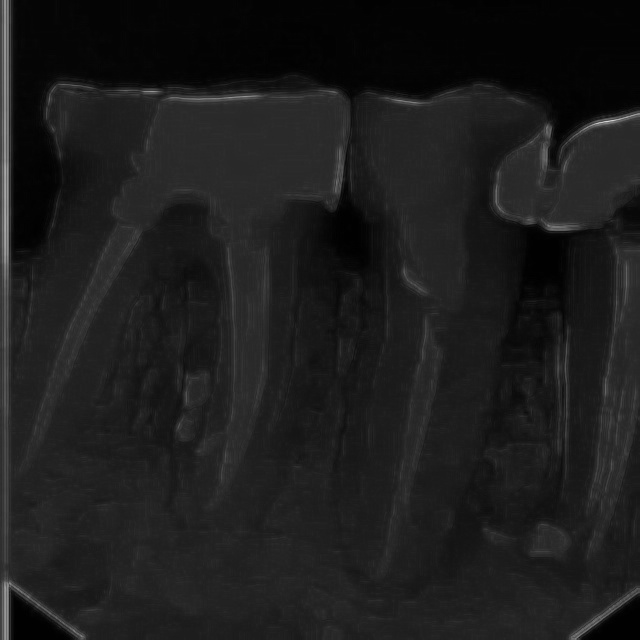Class 0- No endodontic treatment: (11, 152, 320, 563), (326, 255, 564, 605)
